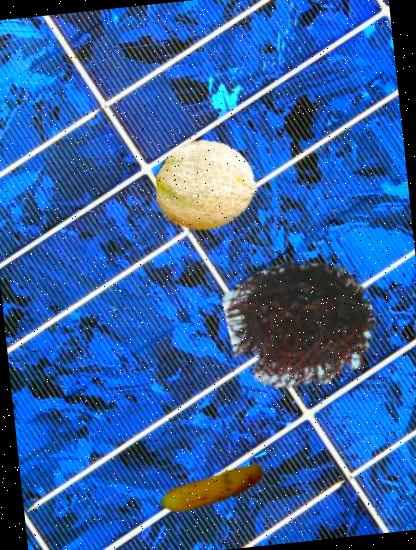Banana: (151, 428, 273, 550)
Cantaloupe: (150, 130, 262, 240)
Rambutan: (222, 247, 381, 406)
